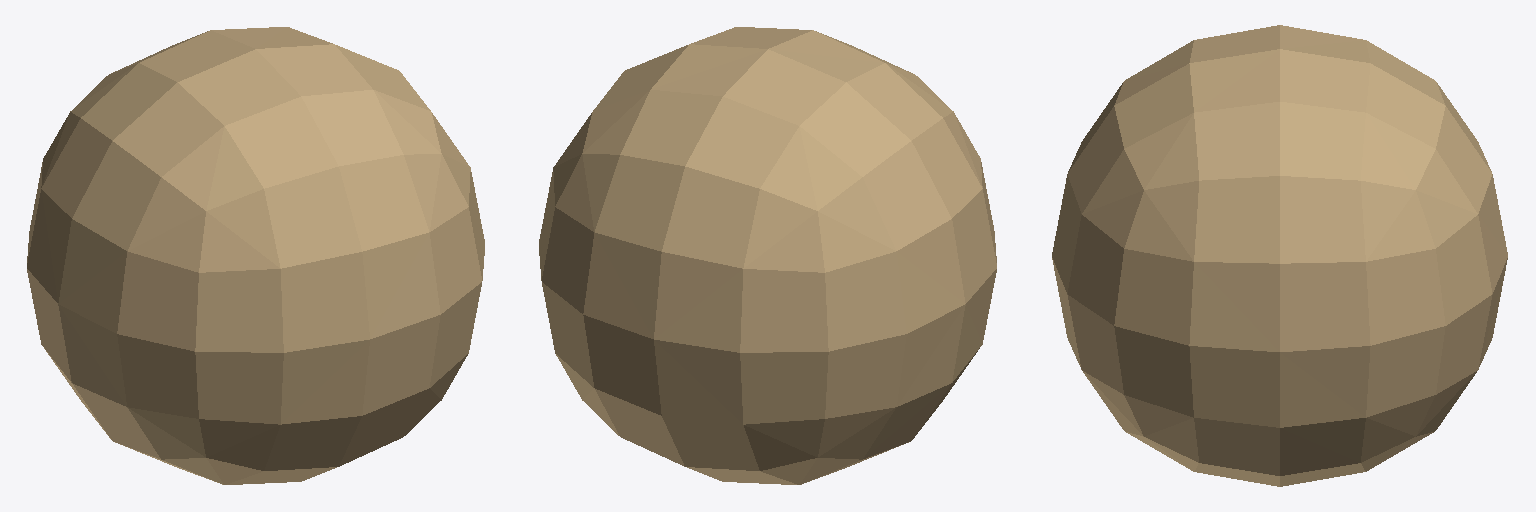
The picture shows the model from 3 angles: view 1: azimuth 30°, elevation 25°; view 2: azimuth 150°, elevation 25°; view 3: azimuth 270°, elevation 25°; orthographic projection.
Parts seen in each view (by area): view 1: 立方体; view 2: 立方体; view 3: 立方体.
Part boxes in pixels (bbox=[...]): 立方体: bbox=[27, 27, 484, 484]; 立方体: bbox=[539, 27, 996, 484]; 立方体: bbox=[1052, 25, 1507, 486].
Size of the model in its own units: 1.68 by 1.68 by 1.68.
1 materials, 1 textured.